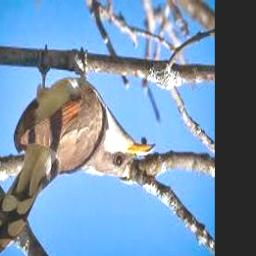Cuckoo: (0, 65, 156, 256)
